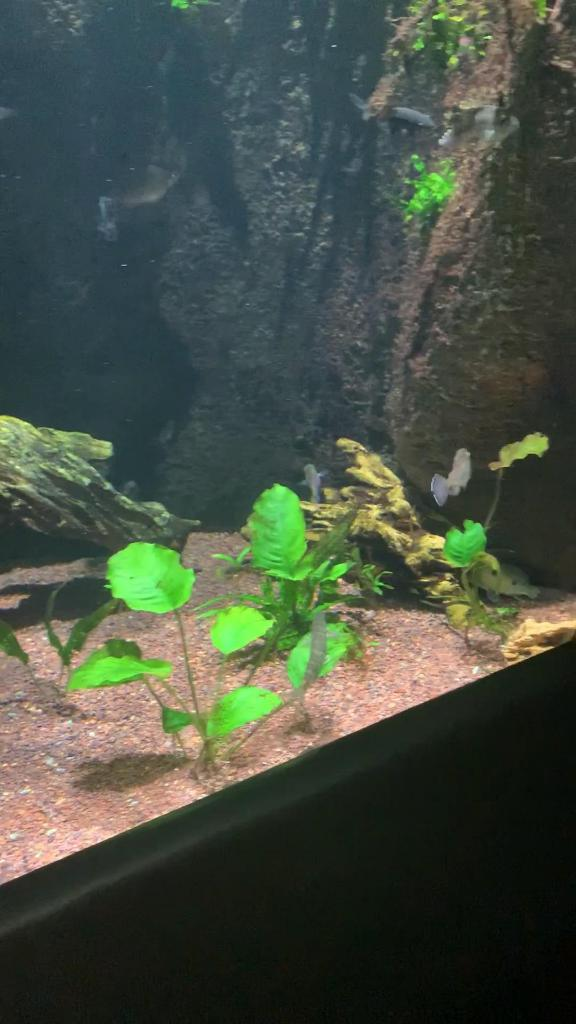fish: (346, 92, 439, 134), (86, 164, 178, 204), (471, 556, 539, 602), (432, 448, 480, 504), (299, 460, 327, 498)
